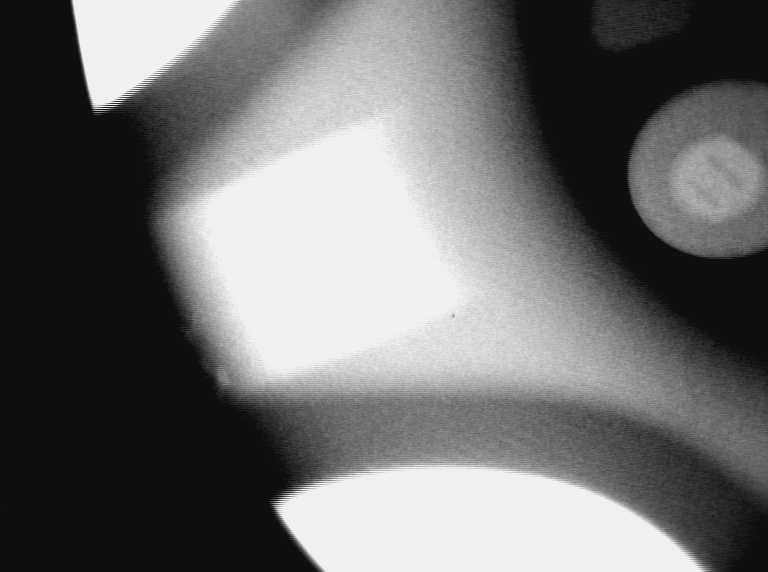defect: (178, 312, 206, 341)
